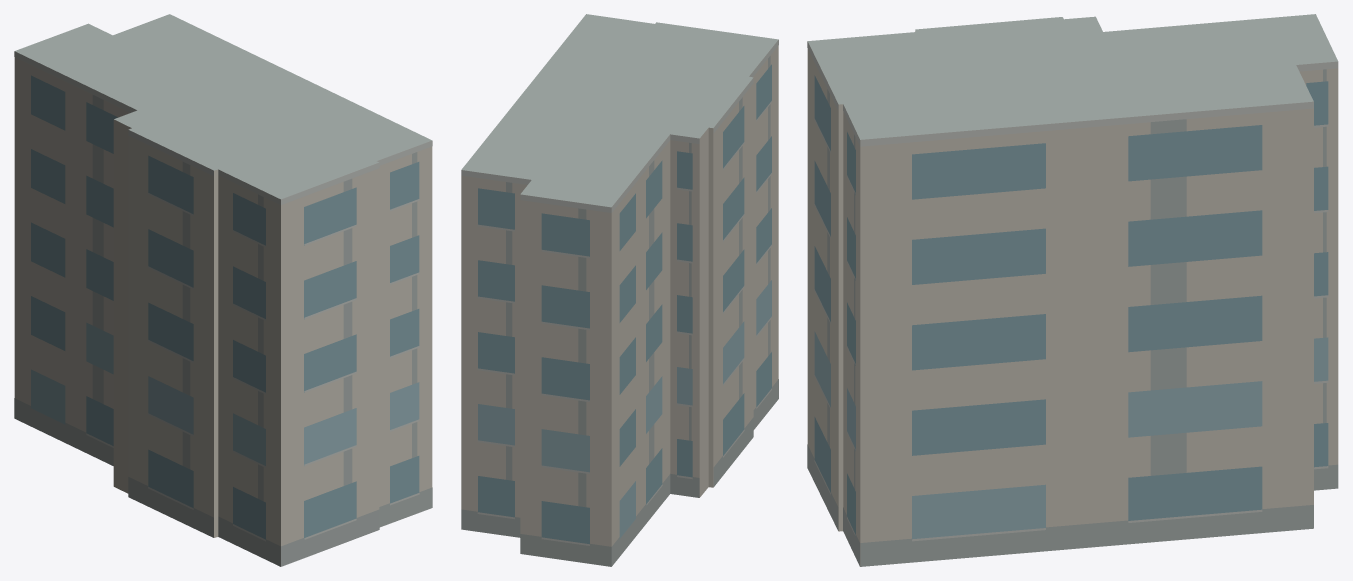
File: survey-upis-32557054.glb
The picture shows the model from 3 angles, left to right: view 1: azimuth 30°, elevation 25°; view 2: azimuth 150°, elevation 25°; view 3: azimuth 270°, elevation 25°; orthographic projection. The views are drawn at different scales.
Visible parts, largest first — view 1: survey-upis-32557054.tmp; view 2: survey-upis-32557054.tmp; view 3: survey-upis-32557054.tmp.
Part boxes in pixels (x1,y1,x2,y2): survey-upis-32557054.tmp: (14,14,432,566); survey-upis-32557054.tmp: (461,14,778,566); survey-upis-32557054.tmp: (807,14,1338,566).
Bounding box in the file's own units: 9.71 × 15.35 × 17.3.
